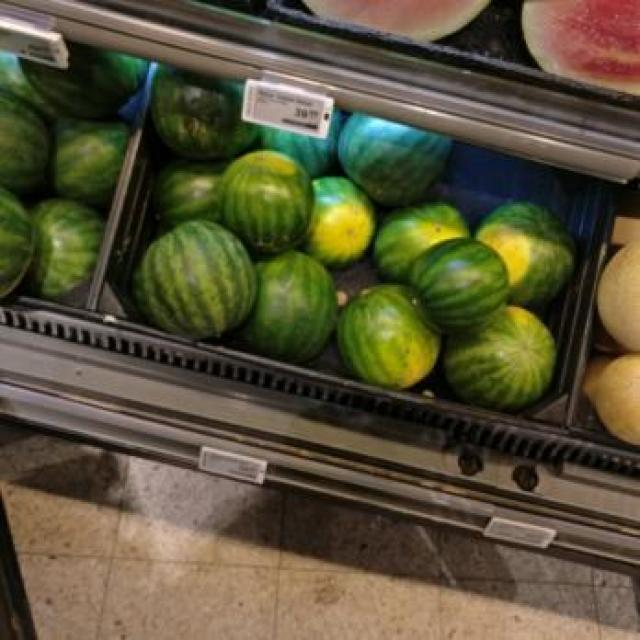Watermelon: (136, 217, 258, 342), (445, 305, 559, 411), (237, 250, 342, 362), (477, 201, 580, 304), (344, 109, 454, 203), (342, 283, 440, 386), (414, 233, 512, 333), (158, 63, 259, 159), (20, 44, 150, 116), (221, 151, 313, 251), (26, 199, 109, 300), (300, 178, 381, 264)
